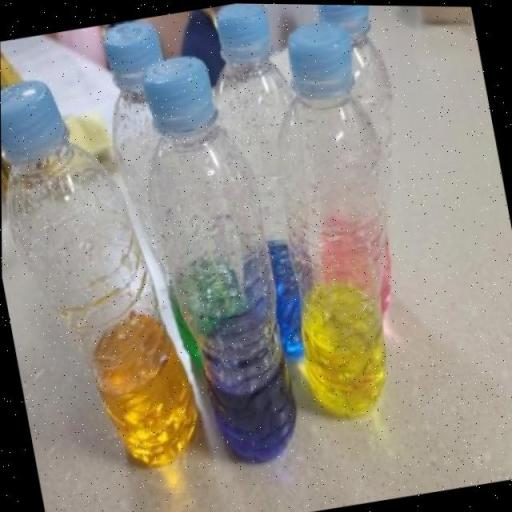plastic: (0, 62, 207, 483), (240, 18, 429, 424), (144, 47, 304, 471)
